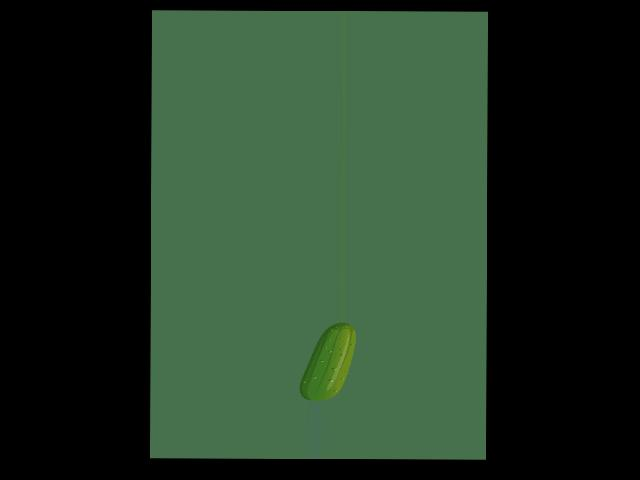cucumber: (299, 322, 355, 401)
